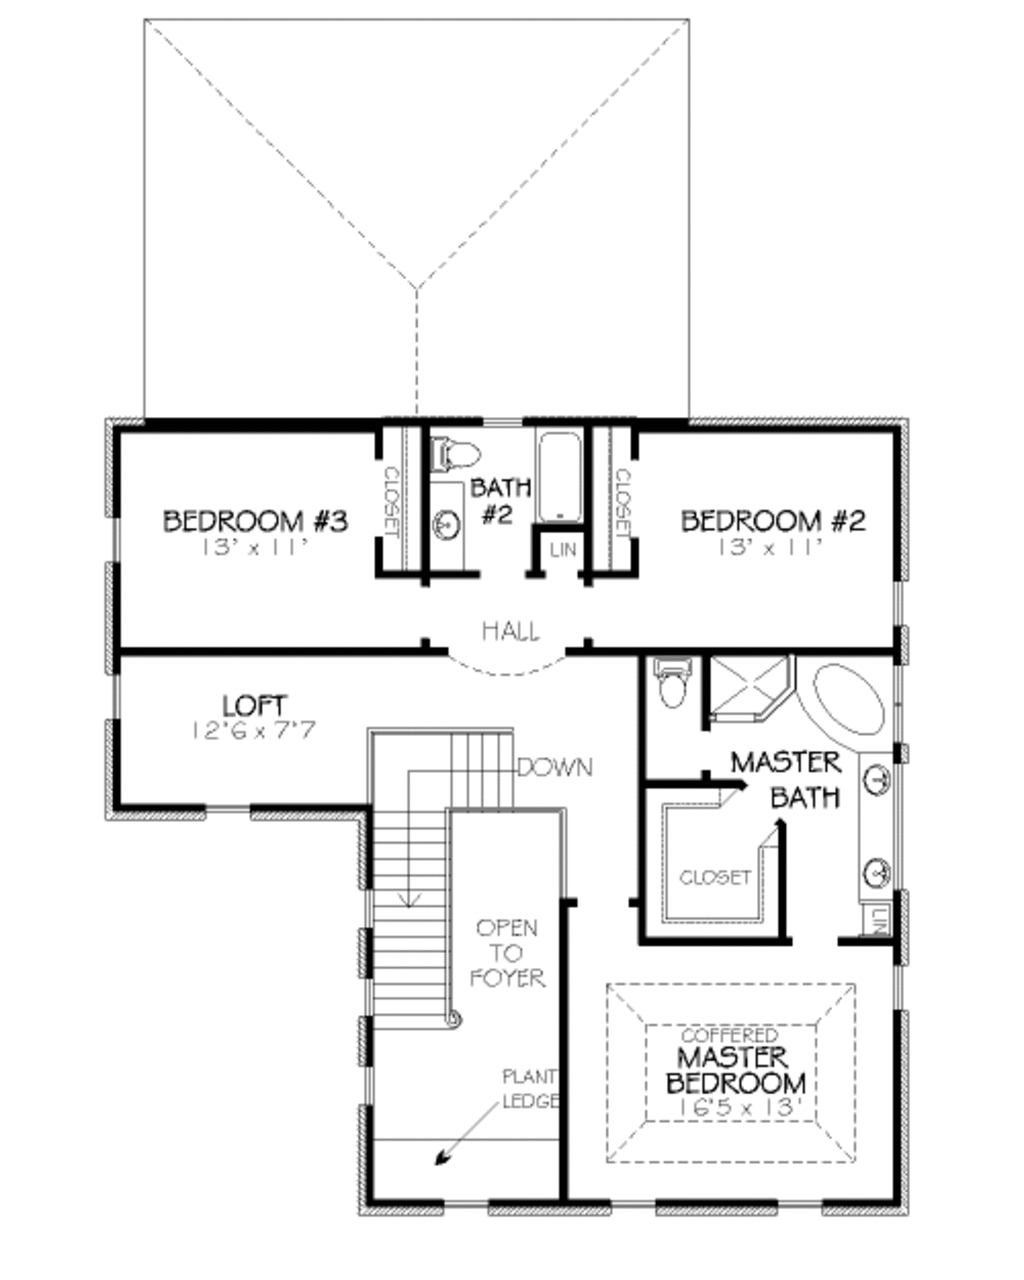large_sink: (642, 652, 702, 713), (426, 432, 496, 478)
small_sink: (861, 749, 901, 902), (426, 479, 465, 569)
stairs: (364, 708, 527, 1033)
tub: (530, 416, 585, 528)
window: (199, 790, 257, 831), (351, 1060, 393, 1108), (101, 665, 132, 721), (890, 956, 917, 1013), (107, 513, 130, 573), (440, 1194, 488, 1221), (613, 1191, 660, 1215), (889, 571, 906, 635)
